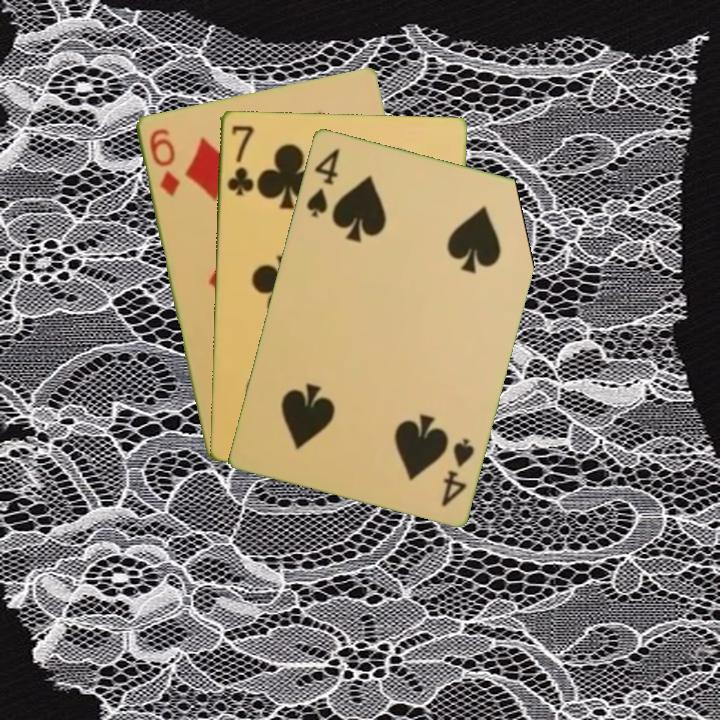4s: (302, 144, 342, 220), (437, 434, 477, 510)
6d: (145, 124, 182, 199)
7c: (223, 121, 256, 199)
